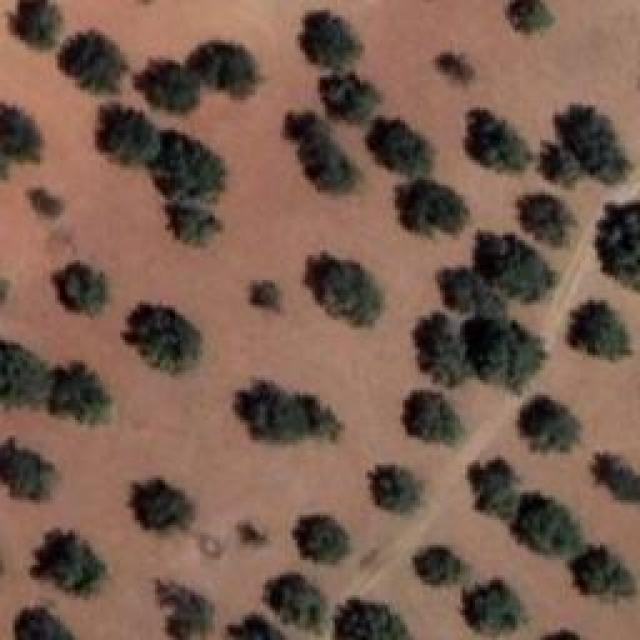Tree: (235, 384, 344, 444), (463, 318, 547, 391), (285, 113, 358, 194), (555, 105, 628, 183), (475, 232, 556, 302), (123, 304, 202, 374), (305, 257, 383, 327), (148, 130, 224, 196), (513, 492, 587, 557), (33, 533, 108, 595), (413, 313, 473, 386), (60, 30, 129, 92), (468, 110, 533, 171), (95, 105, 159, 165), (568, 300, 632, 360), (370, 117, 433, 177), (398, 180, 465, 236), (597, 202, 640, 289), (300, 13, 364, 70), (135, 60, 201, 115), (518, 395, 581, 452), (0, 438, 54, 501), (0, 340, 51, 406), (52, 368, 111, 425), (158, 580, 214, 640), (463, 580, 523, 636), (265, 575, 325, 630), (468, 458, 519, 520), (570, 545, 633, 595), (335, 600, 413, 640), (438, 270, 504, 317), (0, 103, 41, 178), (518, 195, 577, 247), (323, 73, 381, 125), (405, 393, 463, 445), (134, 478, 190, 530), (200, 44, 258, 92), (55, 263, 108, 315), (163, 200, 224, 245), (292, 515, 350, 562), (10, 0, 64, 48), (368, 465, 421, 513), (595, 452, 640, 502), (15, 607, 75, 640), (413, 545, 462, 585), (540, 144, 582, 186), (228, 615, 288, 640), (513, 0, 551, 33), (435, 55, 474, 83), (30, 188, 62, 218), (253, 283, 282, 311)
